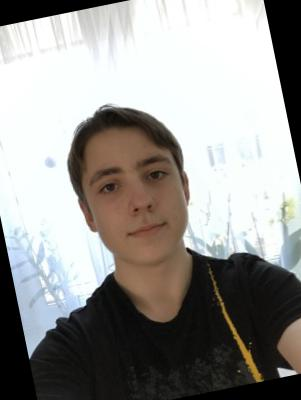without_mask: (81, 149, 199, 275)
